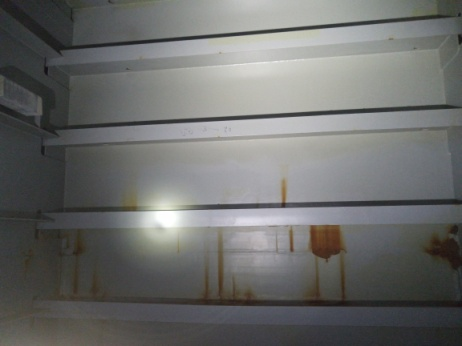corrosion: (203, 230, 256, 298), (51, 241, 105, 293), (422, 232, 461, 273), (306, 223, 347, 257), (122, 173, 153, 214), (329, 252, 352, 294), (278, 227, 299, 258), (306, 258, 323, 294), (273, 178, 293, 208)
